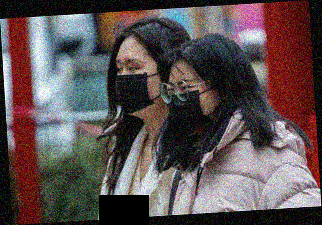with_mask: (167, 76, 221, 135), (115, 56, 161, 115)
